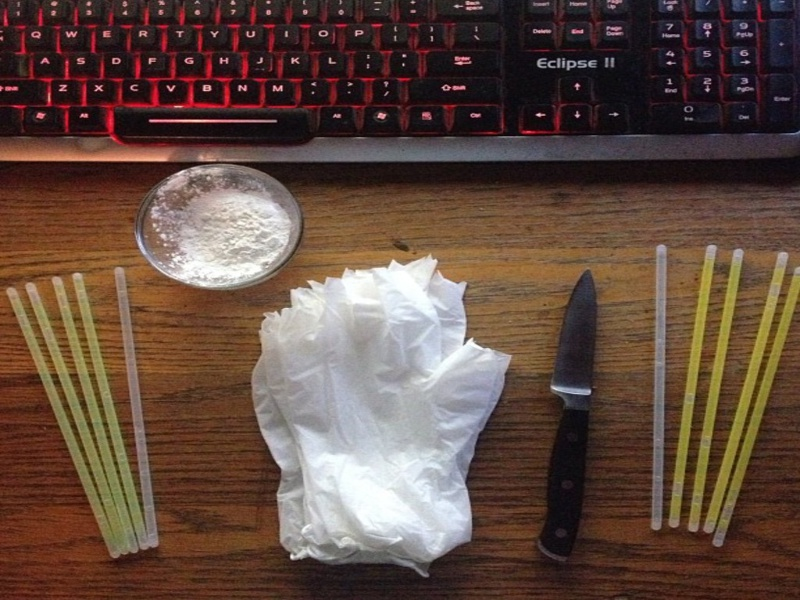knife: (527, 263, 598, 570)
